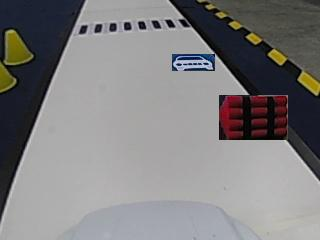crosswalk: (75, 18, 186, 34)
